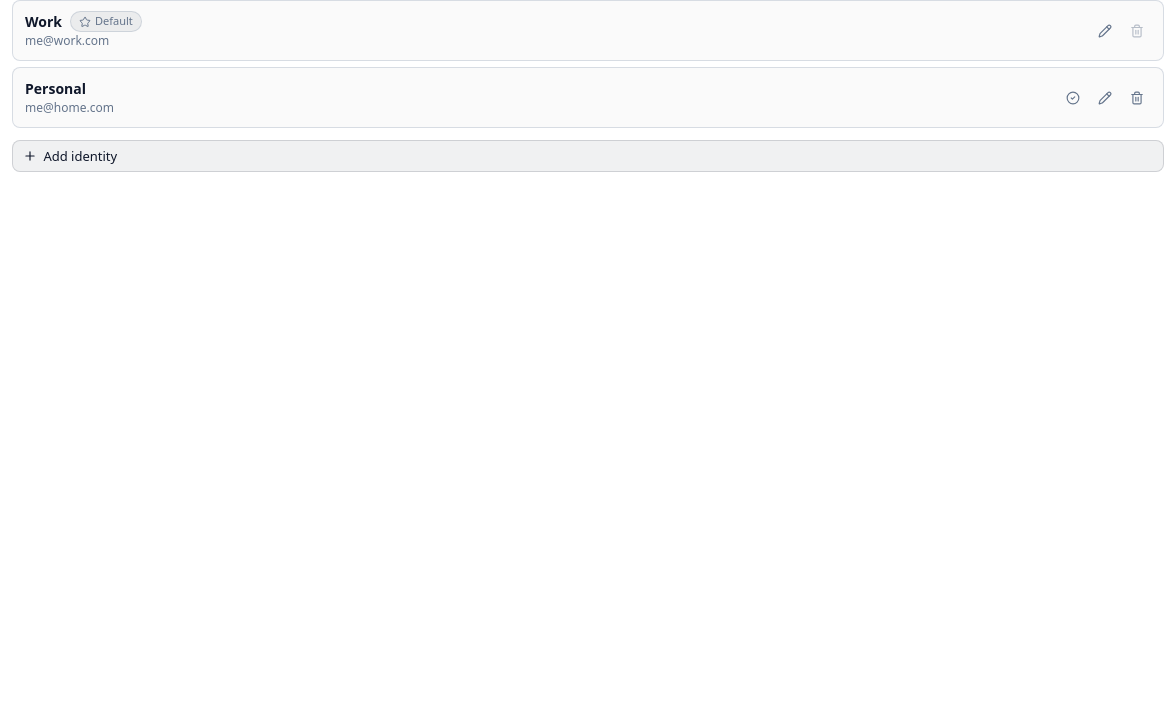
Scenario: IdentitiesTab › opens the editor when Add is clicked
Click the button with test id "identities-add" at coordinates (80, 156), box x1=12 y1=140 x2=1164 y2=172
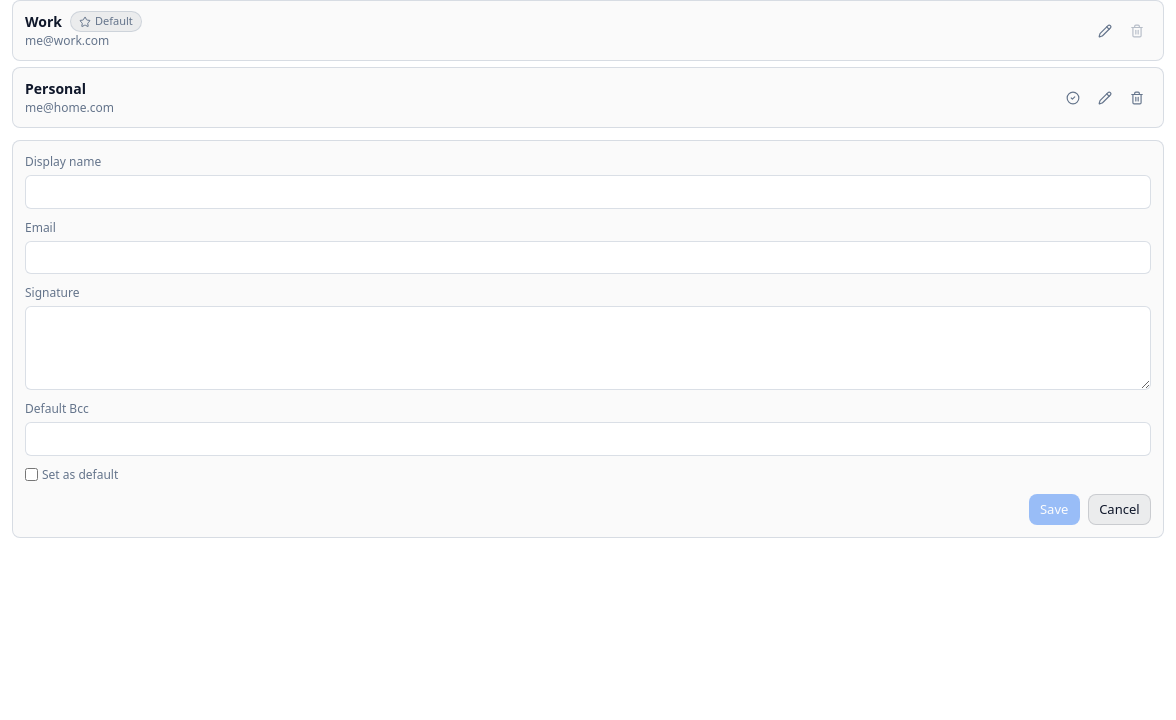
Expected: the element with test id "identities-editor" is shown, x1=12 y1=140 x2=1164 y2=538
Expected: the field with test id "identities-editor-displayName" is shown, x1=25 y1=175 x2=1151 y2=208
